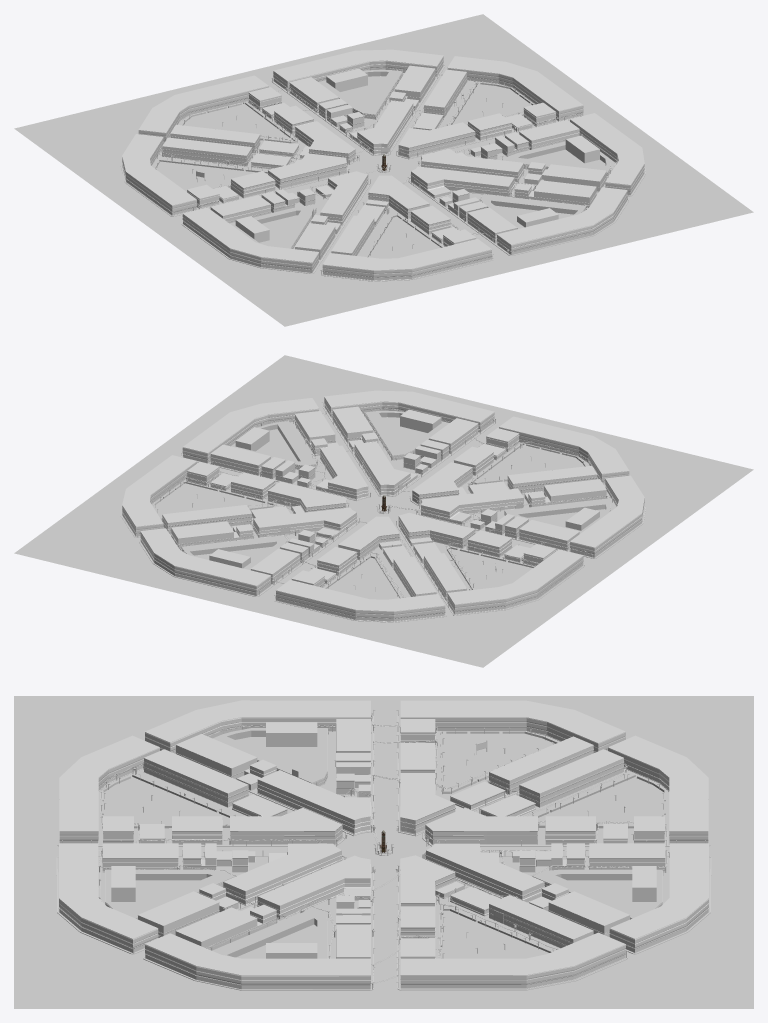
File: Faislabad - Clock Tower v3.fbx
3 renders of one model, top to bottom at view 1: azimuth 30°, elevation 25°; view 2: azimuth 150°, elevation 25°; view 3: azimuth 270°, elevation 25°, orthographic. The views are drawn at different scales.
Visible parts, largest first — view 1: Road, Part one.003, Part one.002, Part one.001, Part one, Green Garden, Green Garden.001, Green Garden.002, Green Garden.003, Wire, Cemant.003, Cemant.001 (+4 smaller); view 2: Road, Part one.002, Part one, Part one.001, Part one.003, Green Garden.003, Green Garden.001, Wire, Green Garden.002, Green Garden, Cemant.001, Cemant (+4 smaller); view 3: Road, Part one.001, Part one.003, Part one, Part one.002, Green Garden.002, Green Garden.003, Green Garden, Green Garden.001, Wire, Cemant.003, Cemant (+7 smaller).
Boxes of the visible parts, x1,y1,x2,y2 form: Road: [14, 14, 753, 326]; Part one.003: [322, 166, 627, 280]; Part one.002: [122, 134, 368, 272]; Part one.001: [398, 56, 644, 195]; Part one: [138, 49, 443, 163]; Green Garden: [183, 76, 385, 141]; Green Garden.001: [452, 84, 605, 167]; Green Garden.002: [156, 161, 297, 247]; Green Garden.003: [368, 205, 572, 258]; Wire: [157, 68, 617, 248]; Cemant.003: [357, 189, 588, 256]; Cemant.001: [438, 80, 615, 187]; Road: [14, 355, 753, 667]; Part one.002: [398, 475, 644, 614]; Part one: [140, 507, 445, 621]; Part one.001: [122, 398, 368, 536]; Part one.003: [324, 390, 629, 504]; Green Garden.003: [382, 417, 584, 482]; Green Garden.001: [155, 429, 297, 518]; Wire: [163, 407, 617, 598]; Green Garden.002: [449, 509, 605, 589]; Green Garden: [195, 546, 399, 599]; Cemant.001: [152, 421, 332, 523]; Cemant: [179, 530, 410, 597]; Road: [14, 696, 753, 1008]; Part one.001: [145, 855, 625, 989]; Part one.003: [58, 735, 342, 952]; Part one: [425, 735, 709, 952]; Part one.002: [145, 700, 625, 834]; Green Garden.002: [236, 733, 554, 791]; Green Garden.003: [103, 777, 229, 911]; Green Garden: [538, 777, 664, 911]; Green Garden.001: [236, 910, 548, 958]; Wire: [98, 714, 667, 983]; Cemant.003: [98, 769, 268, 912]; Cemant: [499, 768, 669, 903].
Bounding box in the file's own units: 460 × 15.16 × 460.
